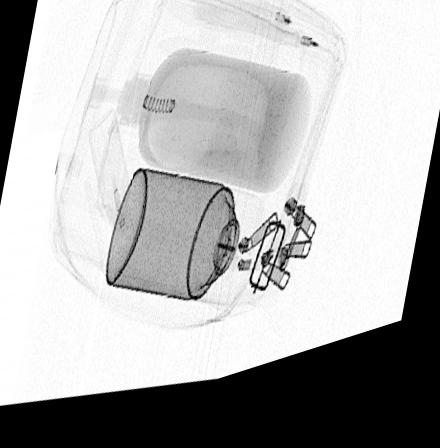Sprayer: (106, 175, 268, 322)
